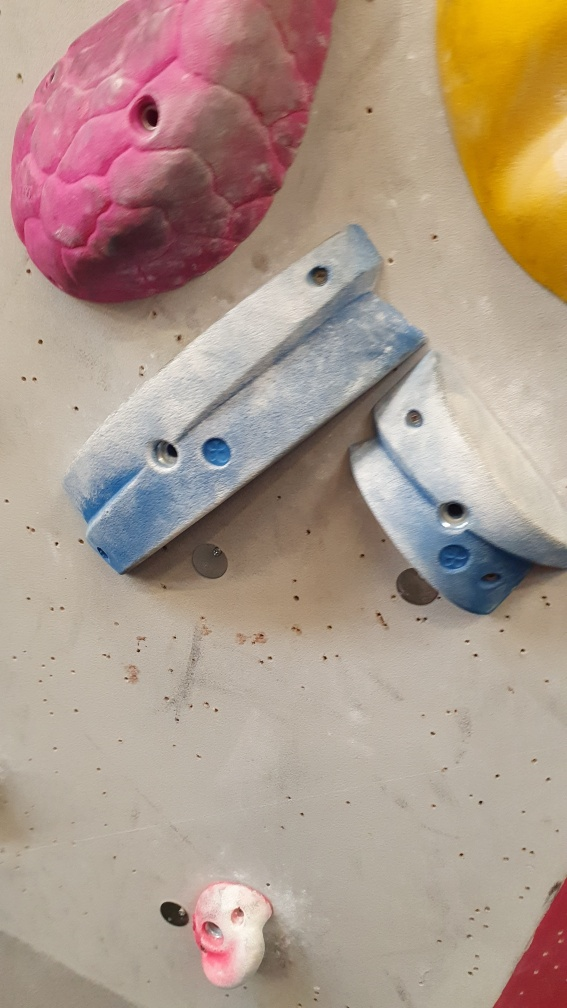Hand Start: (392, 564, 441, 608), (190, 539, 230, 582), (159, 901, 191, 930)
Pinch: (63, 212, 431, 577), (344, 347, 557, 624)
